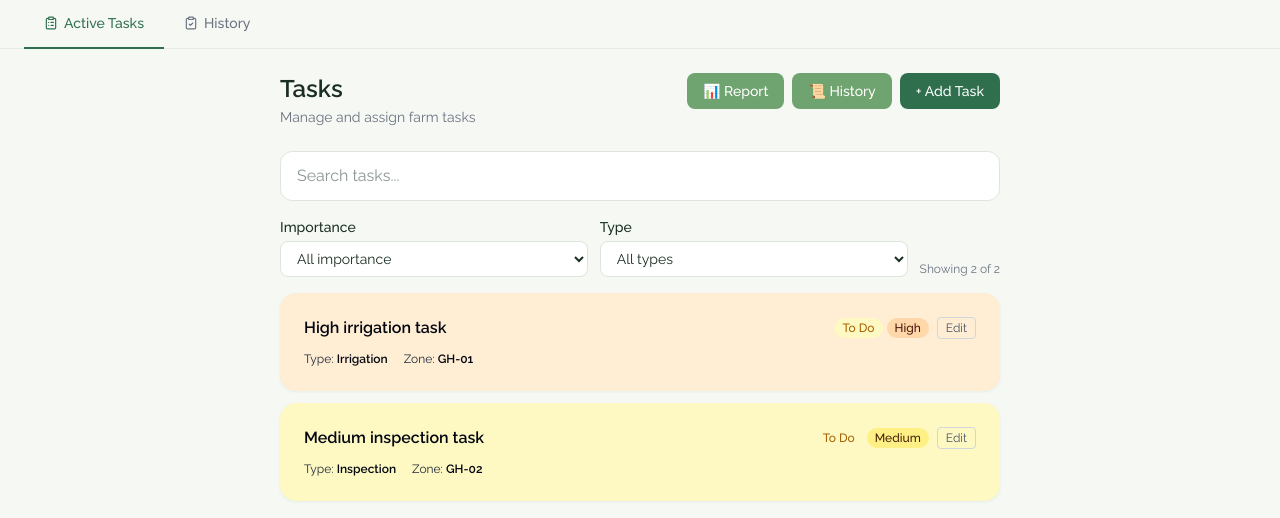
it: task page filters › filters manager tasks by importance
The image size is (1280, 518).
Check: the heading "High irrigation task" is shown, box [304,317,446,339]
Check: the heading "Medium inspection task" is shown, box [304,427,484,449]
Select "High" in the dropdown labelled "Importance" at x=434, y=259, box [280,241,588,277]
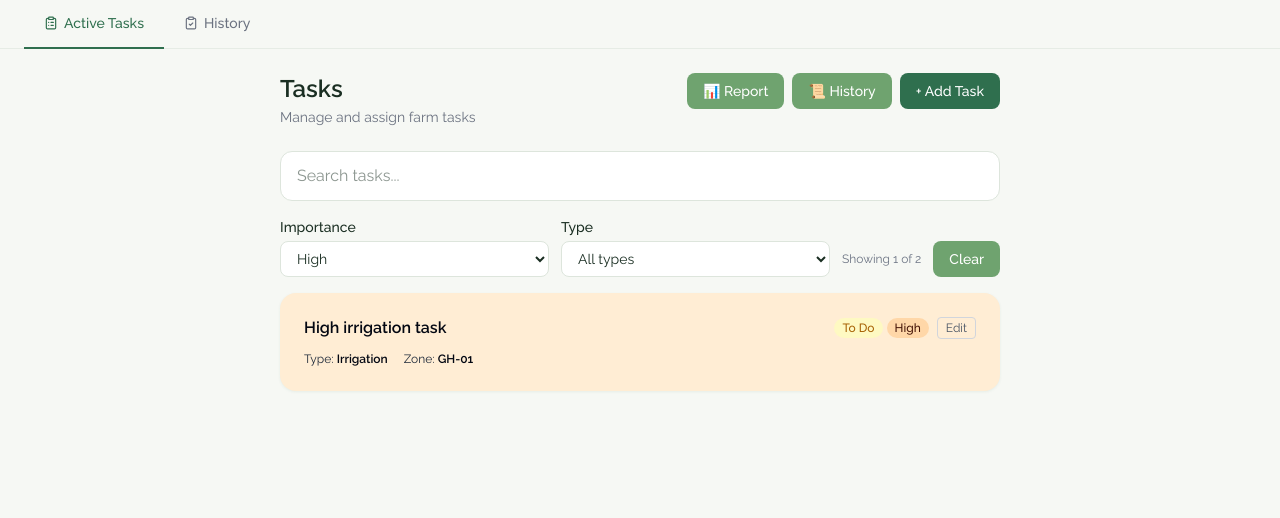
Check: the heading "High irrigation task" is shown, box [304,317,446,339]
Check: the heading "Medium inspection task" is gone
Check: the text "Showing 1 of 2" is shown, box [842,251,921,267]
